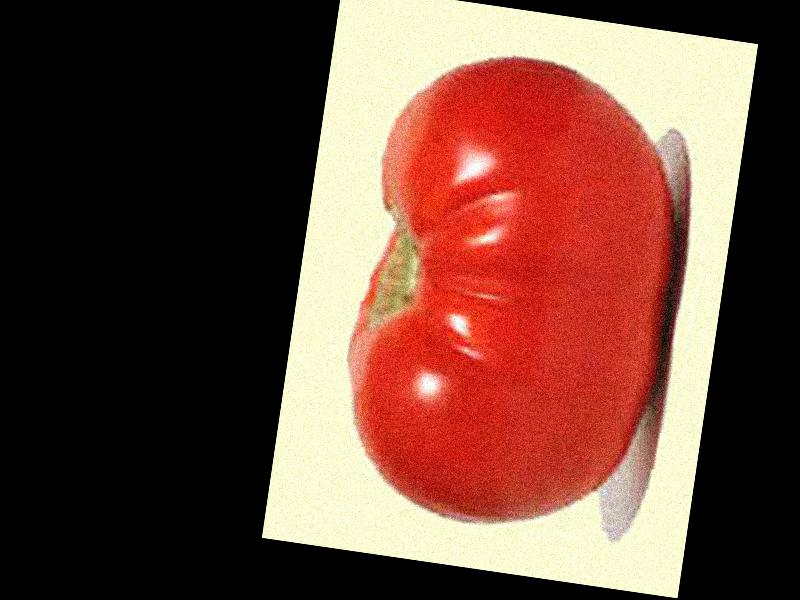Tomato: (326, 37, 696, 543)
